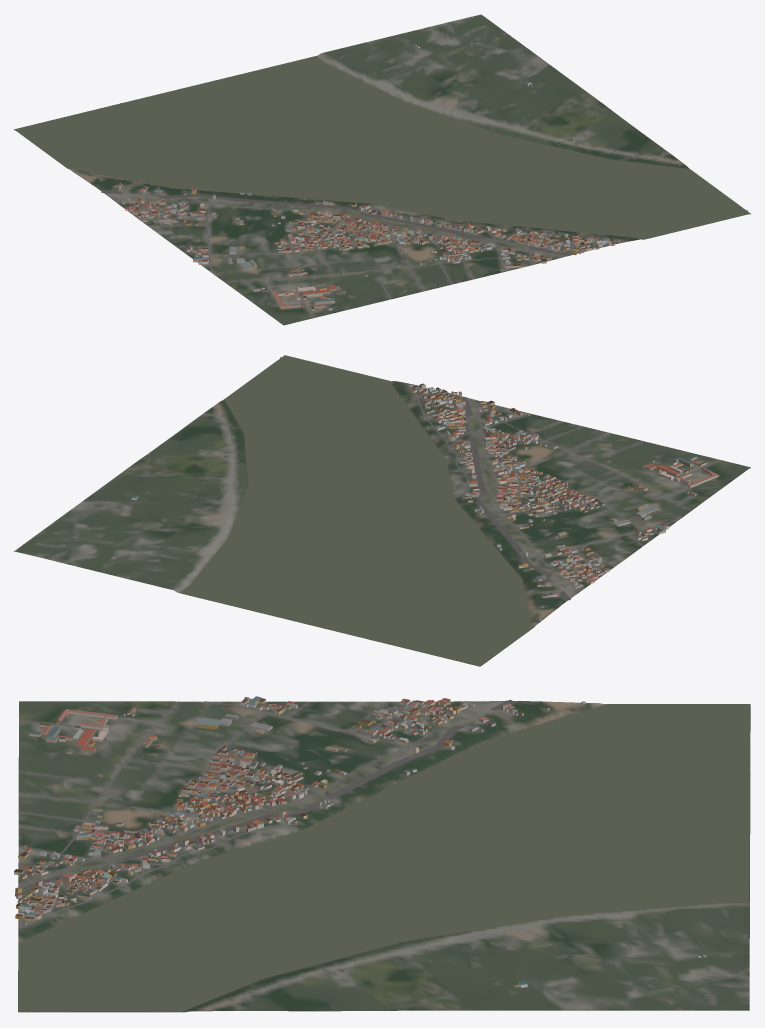
3 renders of one model, top to bottom at view 1: azimuth 30°, elevation 25°; view 2: azimuth 150°, elevation 25°; view 3: azimuth 270°, elevation 25°, orthographic. The views are drawn at different scales.
Parts seen in each view (by area): view 1: water, ground, buildings, roads; view 2: water, ground, buildings, roads; view 3: water, ground, buildings, roads.
Boxes of the visible parts, bbox=[...] form: water: bbox=[15, 56, 749, 238]; ground: bbox=[14, 14, 750, 325]; buildings: bbox=[75, 44, 620, 310]; roads: bbox=[101, 190, 628, 318]; water: bbox=[180, 355, 532, 666]; ground: bbox=[14, 357, 750, 666]; buildings: bbox=[111, 383, 718, 620]; roads: bbox=[406, 383, 721, 600]; water: bbox=[18, 704, 750, 1012]; ground: bbox=[18, 701, 750, 1012]; buildings: bbox=[14, 696, 706, 987]; roads: bbox=[18, 700, 515, 928].
Size of the model in its own units: 1410 by 19.74 by 1412.
